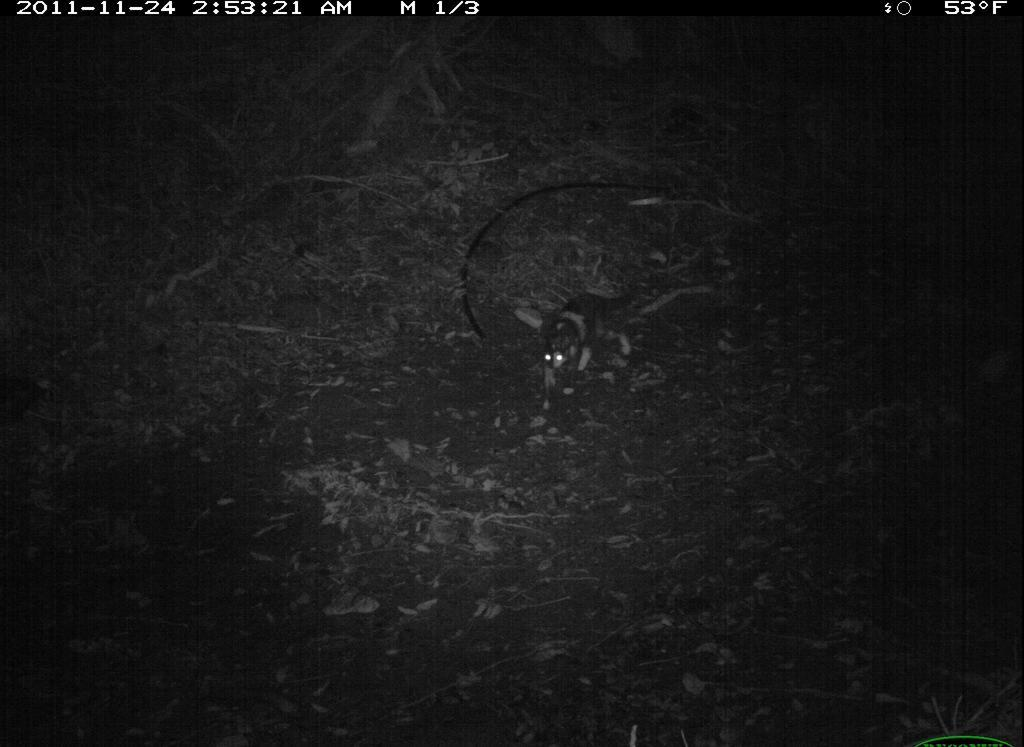cat: (503, 260, 655, 426)
